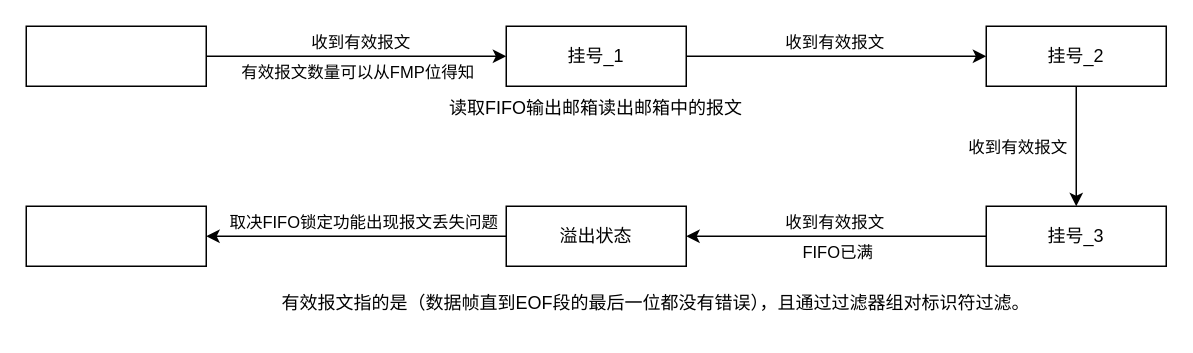
Some shapes in this 1193 by 353 pixel diagram are drawn without their labels. The shapes that lost their labels are listed below. From the top down, each one's box as (x1, y1, x2, y2) in pixels, then its label:
(25, 25, 206, 86): 空置FIFO
(25, 205, 206, 266): 空置状态
